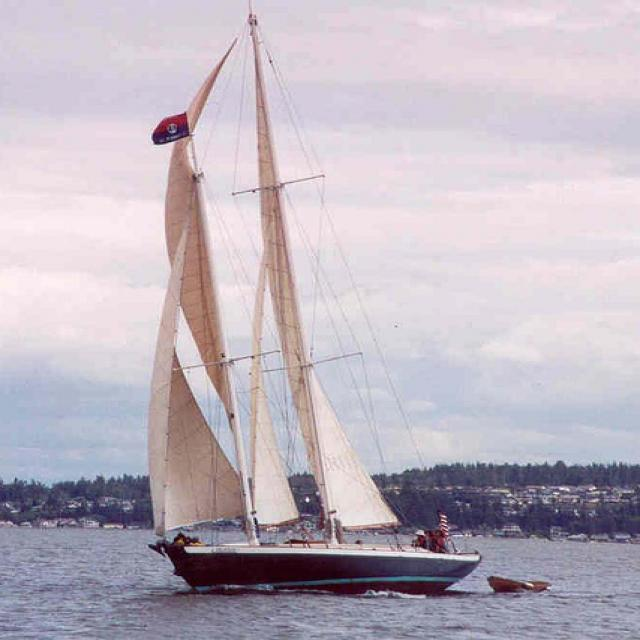Ship: (141, 11, 486, 591)
